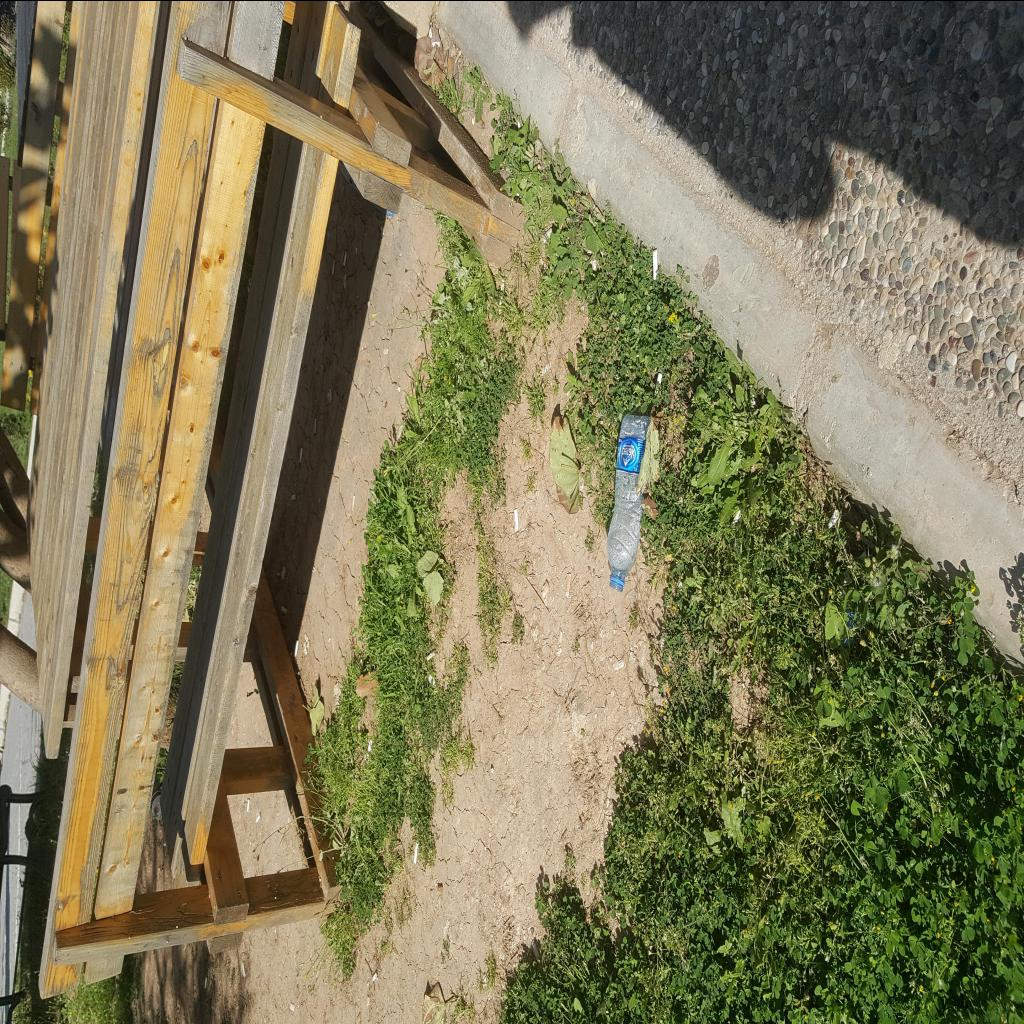Cigarette: (827, 508, 839, 530), (730, 506, 742, 526), (652, 246, 657, 278), (513, 508, 519, 532), (566, 572, 572, 596), (655, 372, 663, 390), (413, 840, 419, 862), (426, 648, 436, 660), (454, 49, 462, 63), (544, 226, 552, 240), (294, 638, 300, 656), (371, 969, 379, 981), (342, 250, 348, 266), (298, 446, 303, 464), (280, 603, 288, 614), (478, 117, 484, 129), (242, 962, 246, 978), (246, 798, 250, 812), (204, 976, 208, 988), (256, 810, 260, 822), (432, 40, 440, 46), (314, 416, 316, 434), (291, 493, 297, 499)
Clear plastic bottle: (607, 414, 651, 592)
Unlabeled litter: (368, 740, 372, 752)
